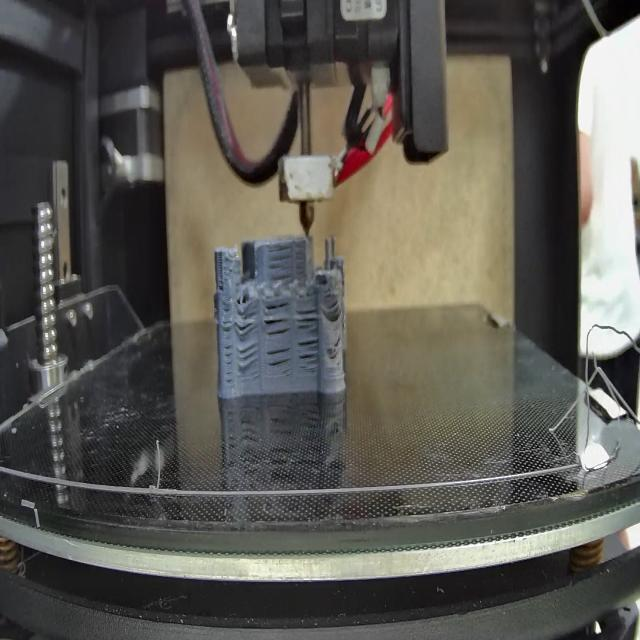cracks: (261, 301, 293, 336), (266, 243, 294, 283), (265, 342, 292, 376), (222, 306, 233, 386), (297, 338, 319, 372), (295, 303, 319, 333), (234, 306, 258, 334), (236, 342, 258, 369), (325, 297, 343, 319), (332, 333, 342, 350), (217, 273, 225, 292)
